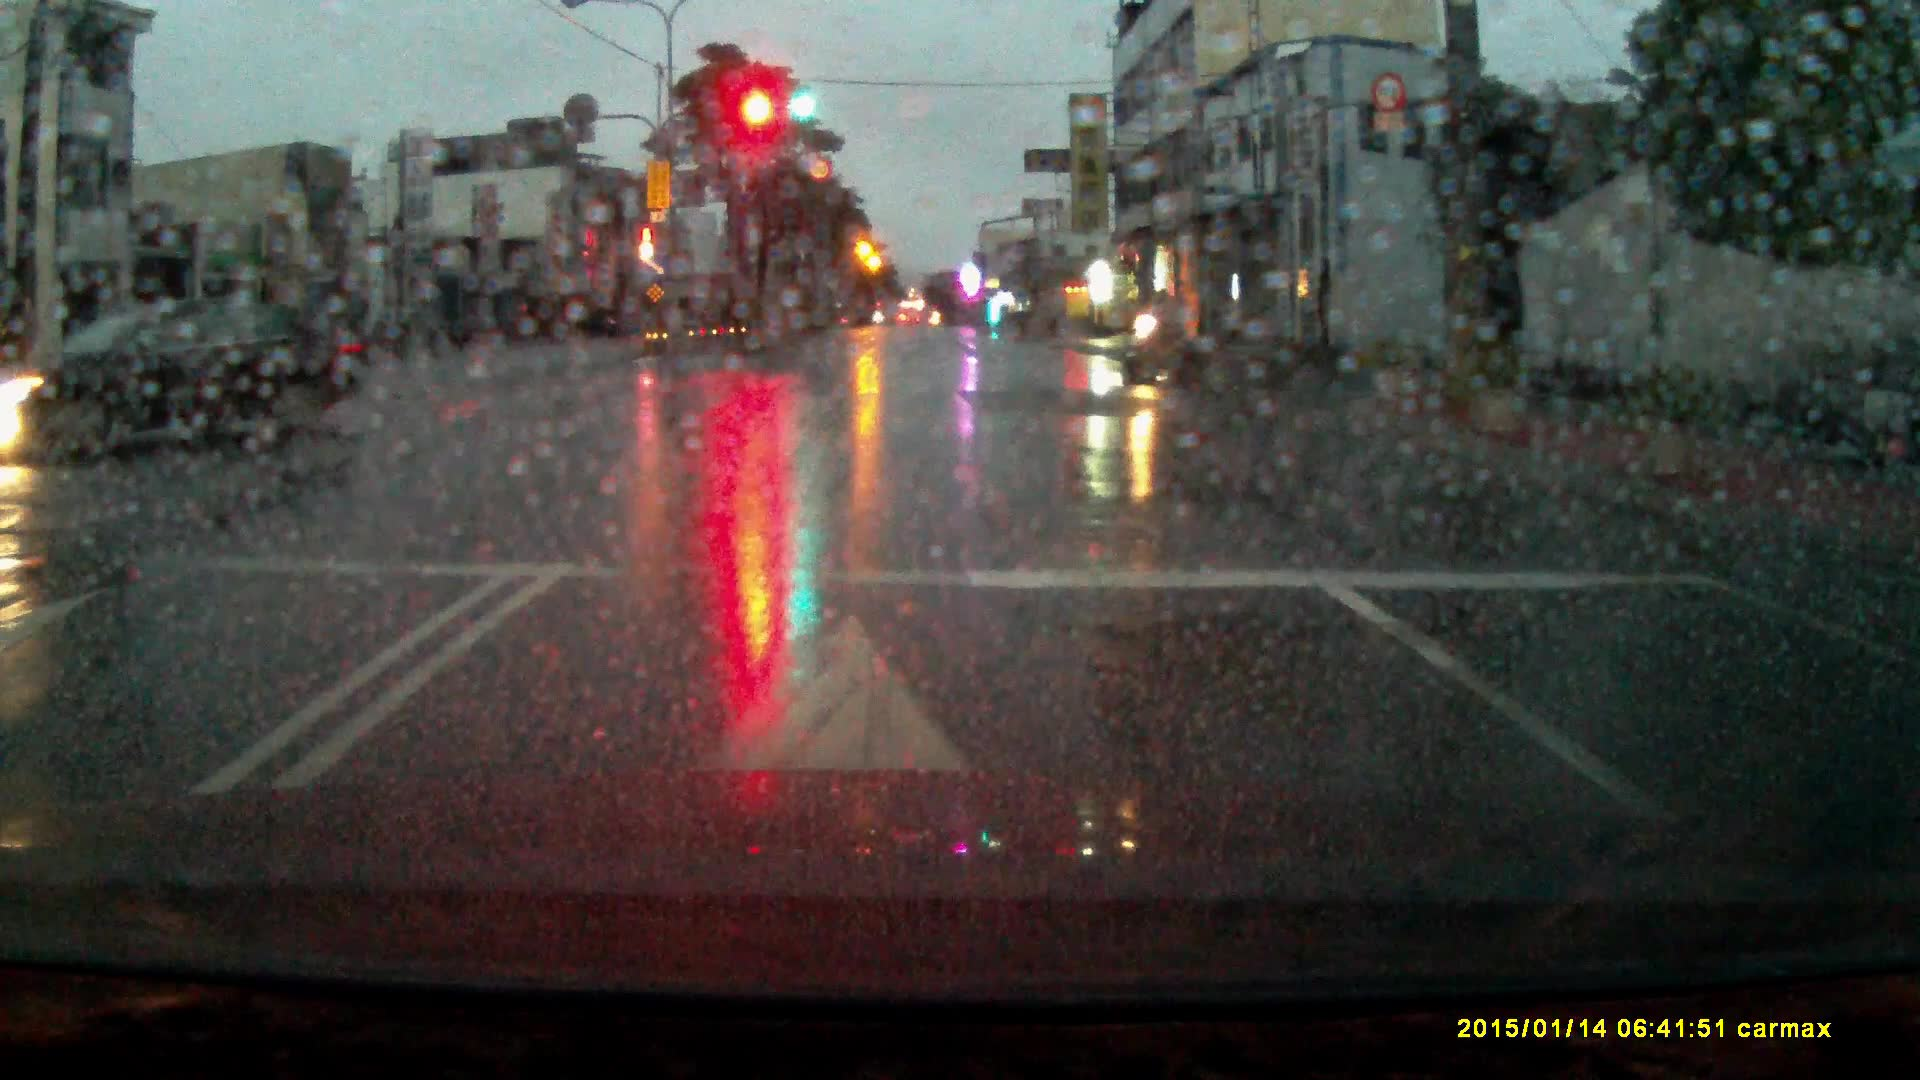rider: (1110, 284, 1196, 376)
vehicle: (4, 294, 349, 468)
